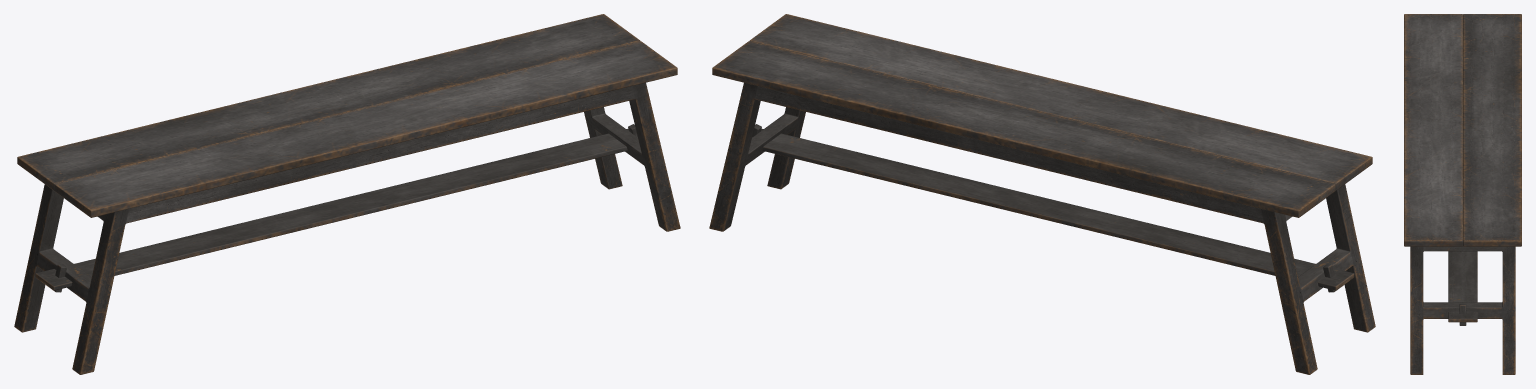
Rendered from wooden_bench.obj.
3 renders of one model, left to right at view 1: azimuth 30°, elevation 25°; view 2: azimuth 150°, elevation 25°; view 3: azimuth 270°, elevation 25°, orthographic. The views are drawn at different scales.
Visible parts, largest first — view 1: wooden_bench; view 2: wooden_bench; view 3: wooden_bench.
Part boxes in pixels (left/top/right/bottom): wooden_bench: left=14, top=14, right=680, bottom=374; wooden_bench: left=709, top=14, right=1375, bottom=374; wooden_bench: left=1404, top=14, right=1521, bottom=374.
Size of the model in its own units: 170 by 44.42 by 36.02.
1 material, 1 textured.
